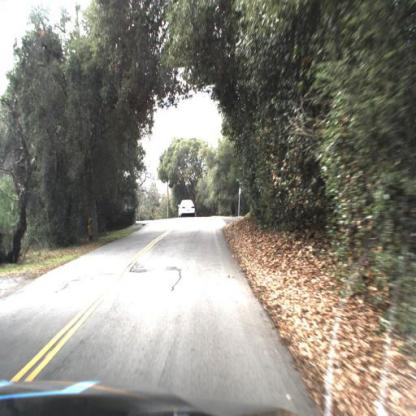car: (176, 191, 199, 227)
